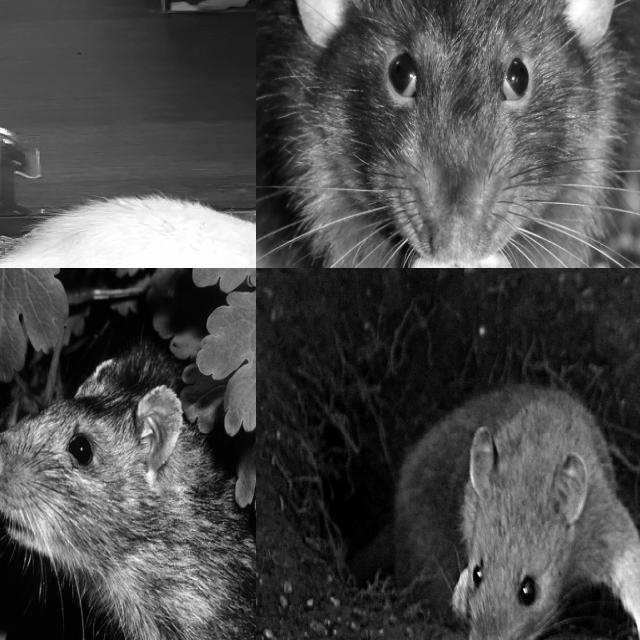rat: (256, 0, 630, 268), (0, 347, 256, 640), (400, 389, 640, 640), (3, 194, 256, 268)
